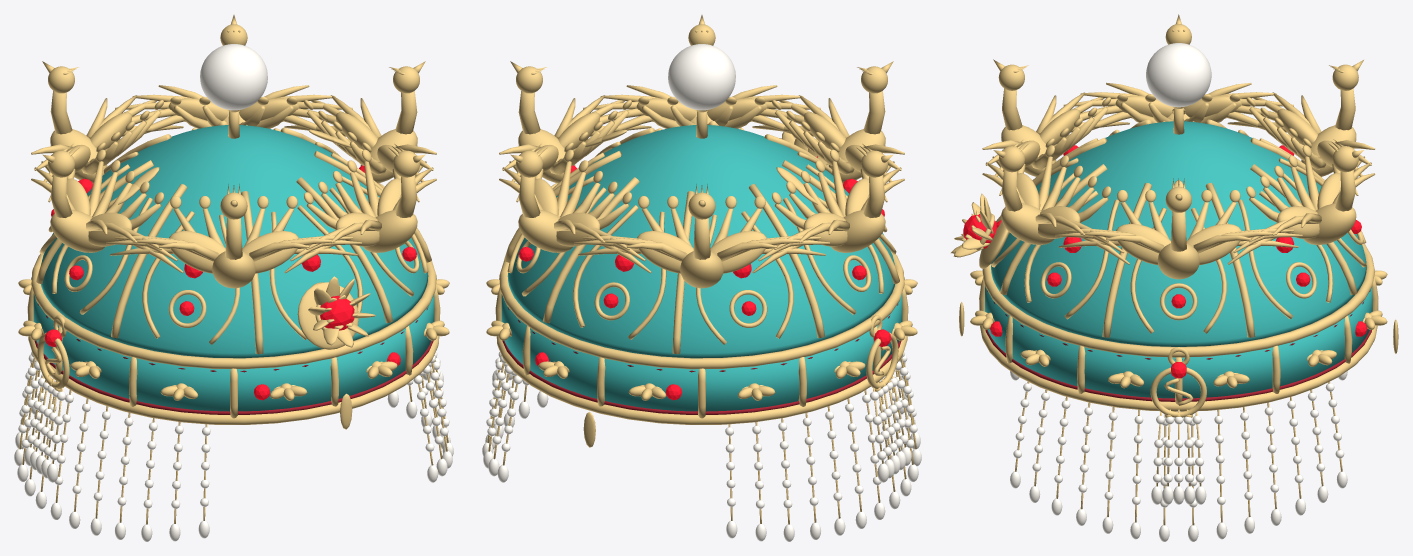
The model's file is phoenix_crown.glb.
The picture shows the model from 3 angles, left to right: view 1: azimuth 30°, elevation 25°; view 2: azimuth 150°, elevation 25°; view 3: azimuth 270°, elevation 25°; orthographic projection. The views are drawn at different scales.
Visible parts, largest first — view 1: CrownDome, Phoenixes, CrownBand, PearlTassels, TopPearl, SidePendants, FrontLotus; view 2: CrownDome, Phoenixes, CrownBand, PearlTassels, TopPearl, SidePendants; view 3: CrownDome, Phoenixes, CrownBand, PearlTassels, SidePendants, TopPearl, FrontLotus.
Boxes of the visible parts, bbox=[...] form: CrownDome: bbox=[36, 121, 431, 358]; Phoenixes: bbox=[31, 15, 436, 288]; CrownBand: bbox=[18, 254, 449, 424]; PearlTassels: bbox=[14, 351, 453, 541]; TopPearl: bbox=[118, 44, 352, 429]; SidePendants: bbox=[24, 315, 443, 482]; FrontLotus: bbox=[297, 276, 375, 349]; CrownDome: bbox=[504, 121, 899, 358]; Phoenixes: bbox=[499, 15, 904, 288]; CrownBand: bbox=[486, 254, 917, 424]; PearlTassels: bbox=[482, 351, 921, 541]; TopPearl: bbox=[583, 44, 817, 447]; SidePendants: bbox=[492, 315, 911, 482]; CrownDome: bbox=[991, 119, 1366, 346]; Phoenixes: bbox=[982, 14, 1375, 279]; CrownBand: bbox=[970, 243, 1387, 411]; PearlTassels: bbox=[1010, 371, 1347, 541]; SidePendants: bbox=[1150, 347, 1206, 504]; TopPearl: bbox=[959, 43, 1398, 353]; FrontLotus: bbox=[950, 193, 1009, 268].
Size of the model in its own units: 2.28 by 2.32 by 2.31.
